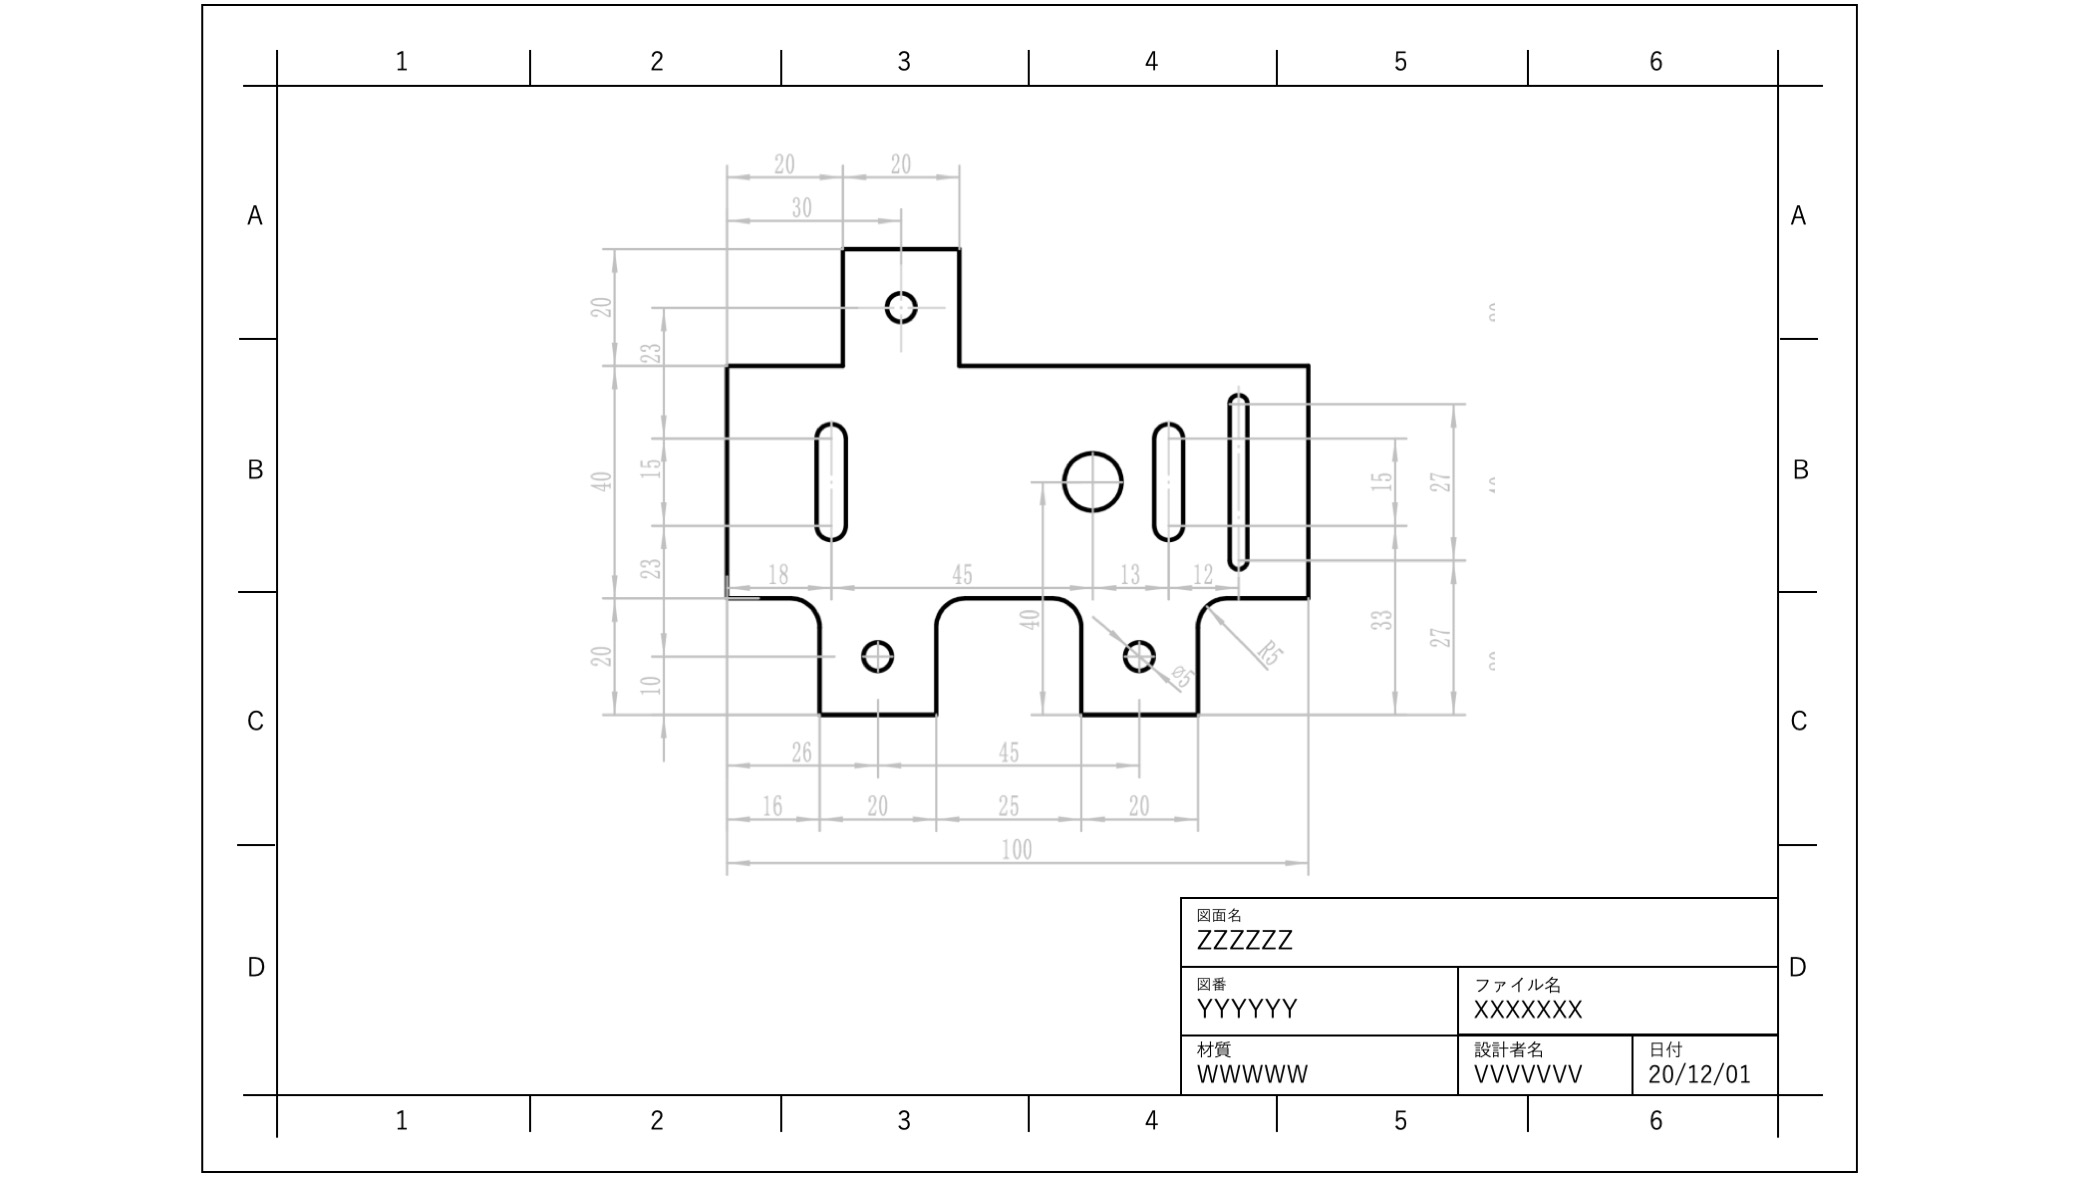circle: (1059, 443, 1126, 516), (847, 627, 903, 679), (1115, 627, 1165, 679), (883, 286, 922, 336)
round_rectangle: (1214, 381, 1262, 572), (1145, 407, 1188, 551), (813, 417, 860, 547)
